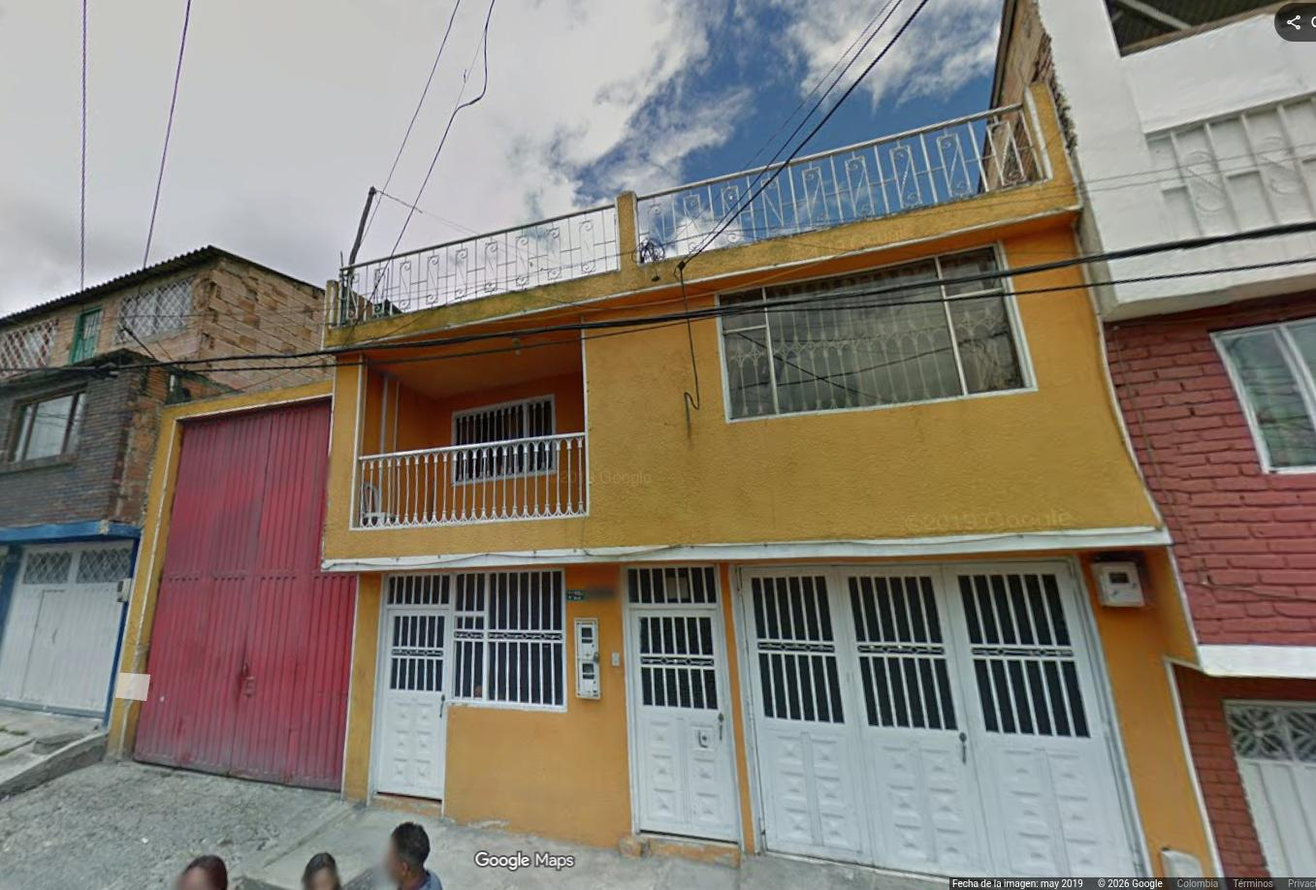casa: (112, 87, 1208, 876)
